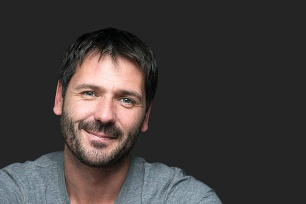male: (56, 36, 157, 168)
